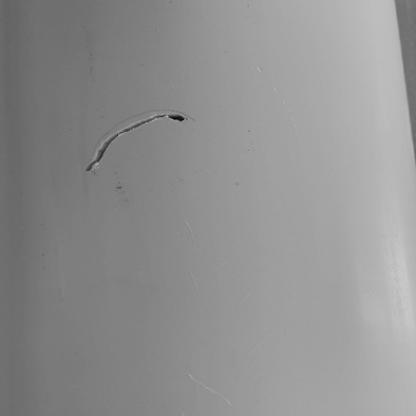fengxi: (82, 112, 188, 173)
